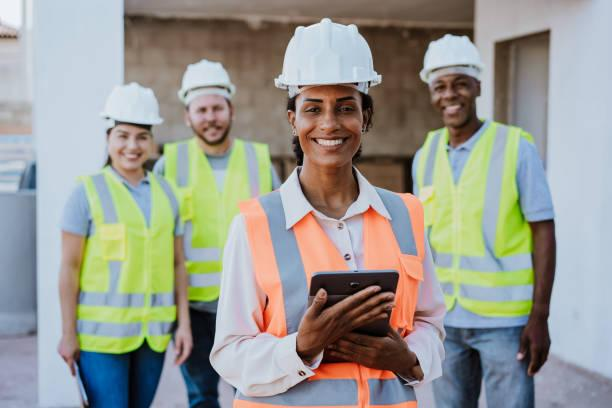capacete: (276, 22, 395, 92), (98, 77, 165, 131), (419, 32, 489, 76), (180, 62, 240, 101)
pessoa: (256, 29, 411, 408), (414, 28, 557, 408), (45, 88, 180, 376), (166, 68, 248, 285)
